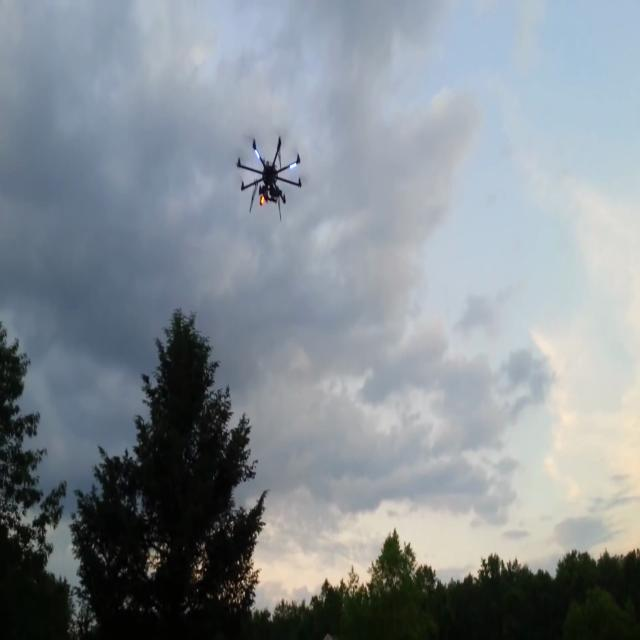drone: (235, 120, 312, 242)
